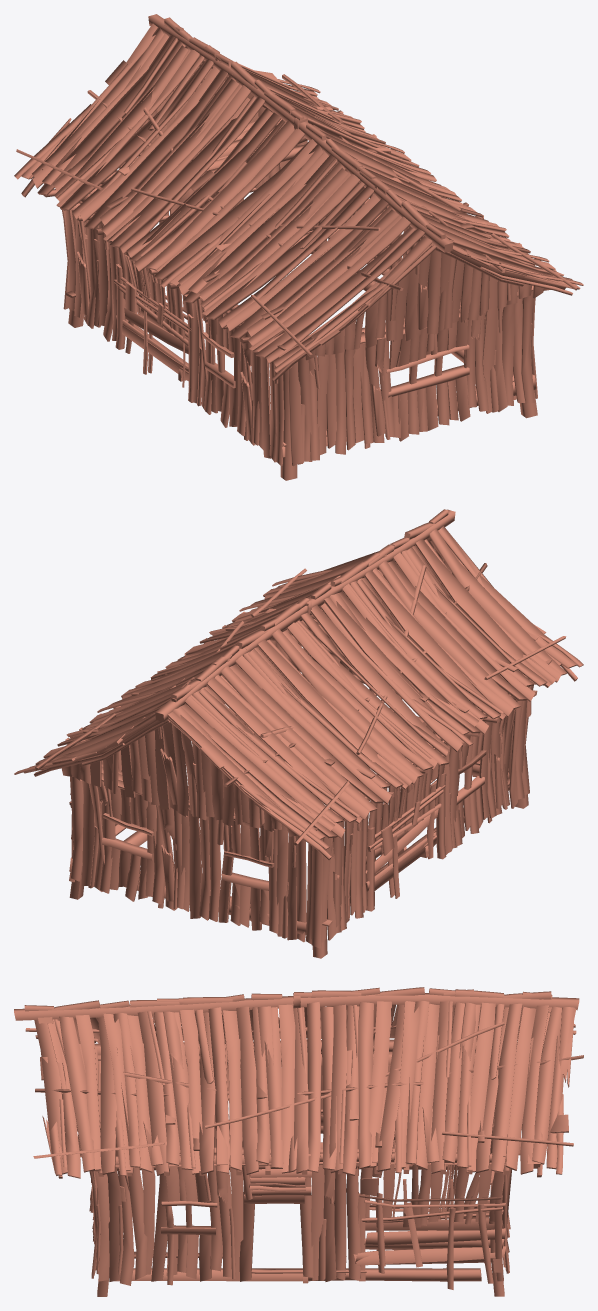
The model's file is house_08.fbx.
The picture shows the model from 3 angles, top to bottom: view 1: azimuth 30°, elevation 25°; view 2: azimuth 150°, elevation 25°; view 3: azimuth 270°, elevation 25°; orthographic projection. The views are drawn at different scales.
Visible parts, largest first — view 1: Plane.033; view 2: Plane.033; view 3: Plane.033.
Part boxes in pixels (x1,y1,x2,y2): Plane.033: [14, 14, 583, 480]; Plane.033: [14, 509, 583, 958]; Plane.033: [14, 987, 583, 1296].
Bounding box in the file's own units: 9.25 × 7.44 × 15.37.
